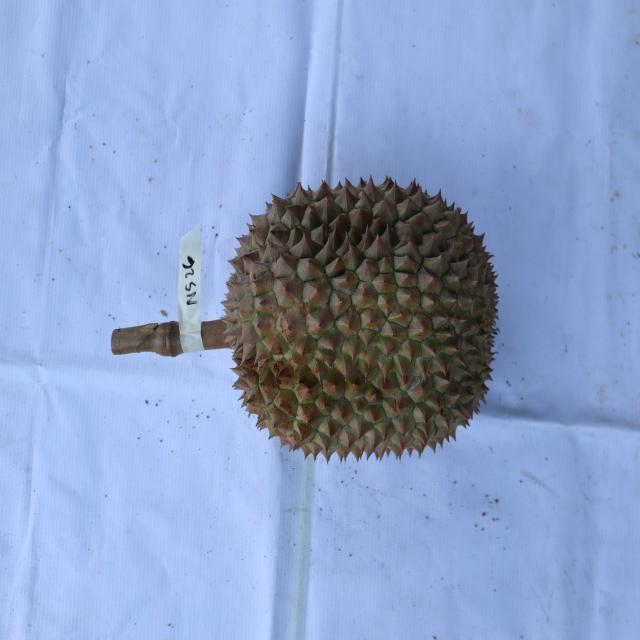mature: (221, 172, 502, 465)
